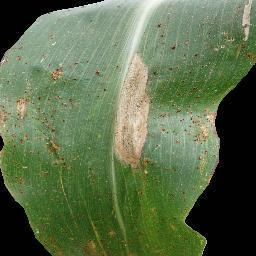Corn_Common_Rust: (159, 75, 223, 158), (111, 49, 155, 169), (0, 59, 72, 128), (199, 0, 256, 64), (40, 222, 137, 256), (0, 128, 67, 175), (0, 33, 69, 61), (195, 158, 219, 192), (157, 21, 167, 41), (94, 64, 106, 80), (72, 61, 88, 69), (167, 43, 181, 52), (166, 64, 176, 73), (87, 16, 95, 25), (72, 74, 80, 83), (191, 52, 201, 59), (100, 87, 110, 94)
